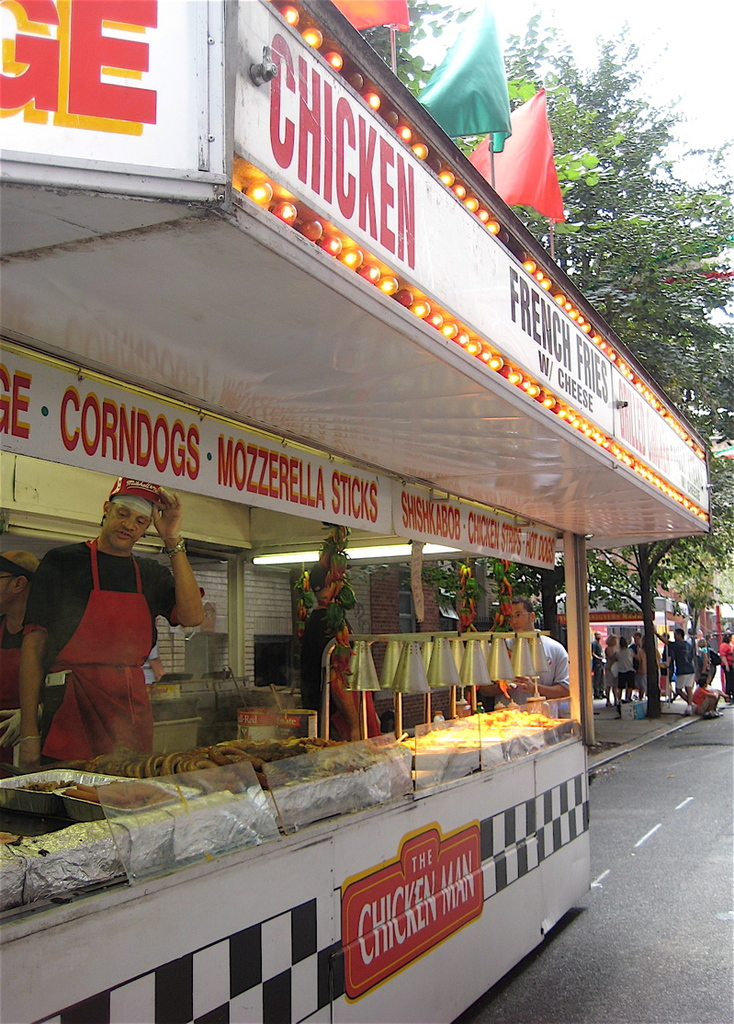Tree: (355, 0, 733, 718)
